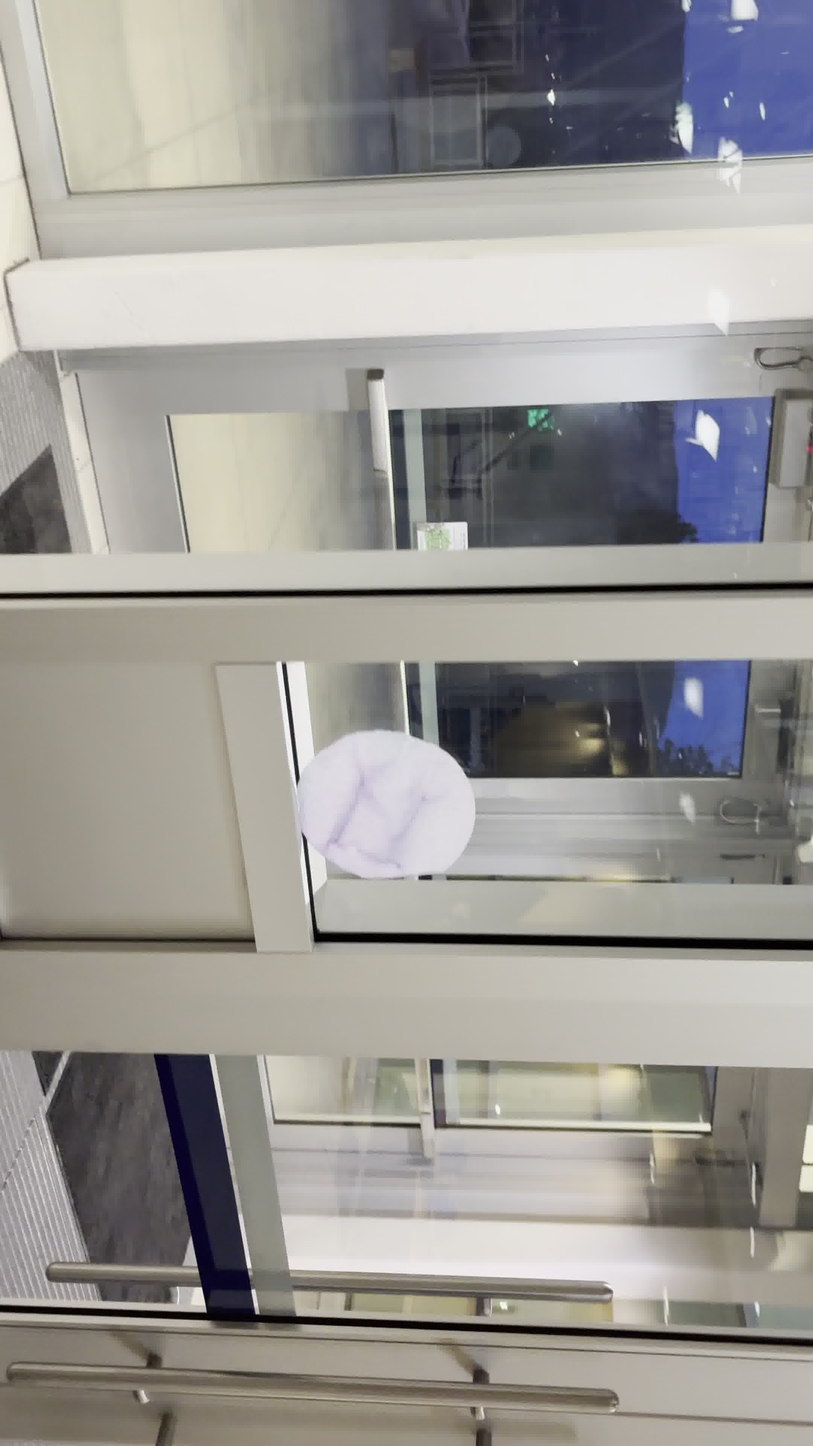Target: (292, 736, 477, 878)
